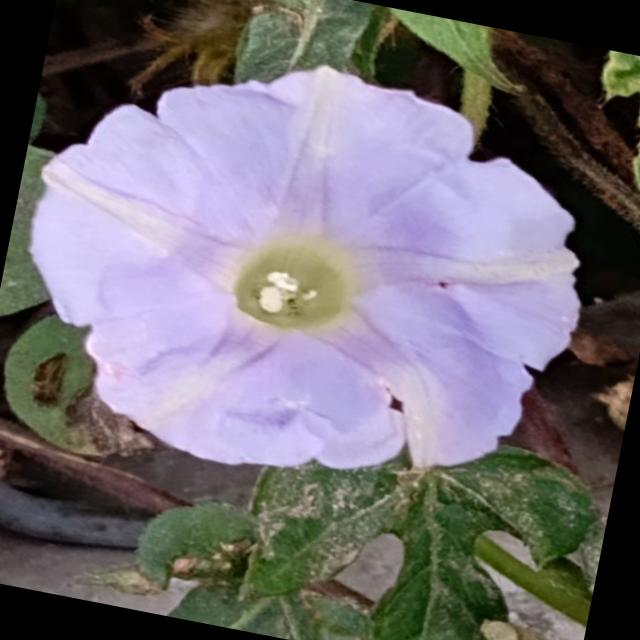ipomoea: (0, 13, 623, 528)
